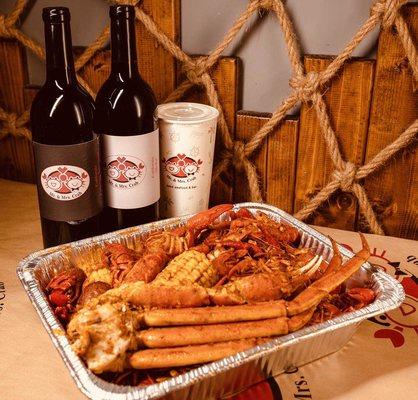pizza: (156, 102, 219, 219)
